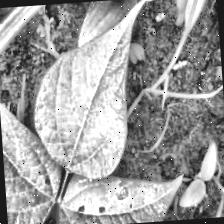ALS: (18, 0, 160, 175), (0, 20, 66, 224), (56, 171, 162, 224)
